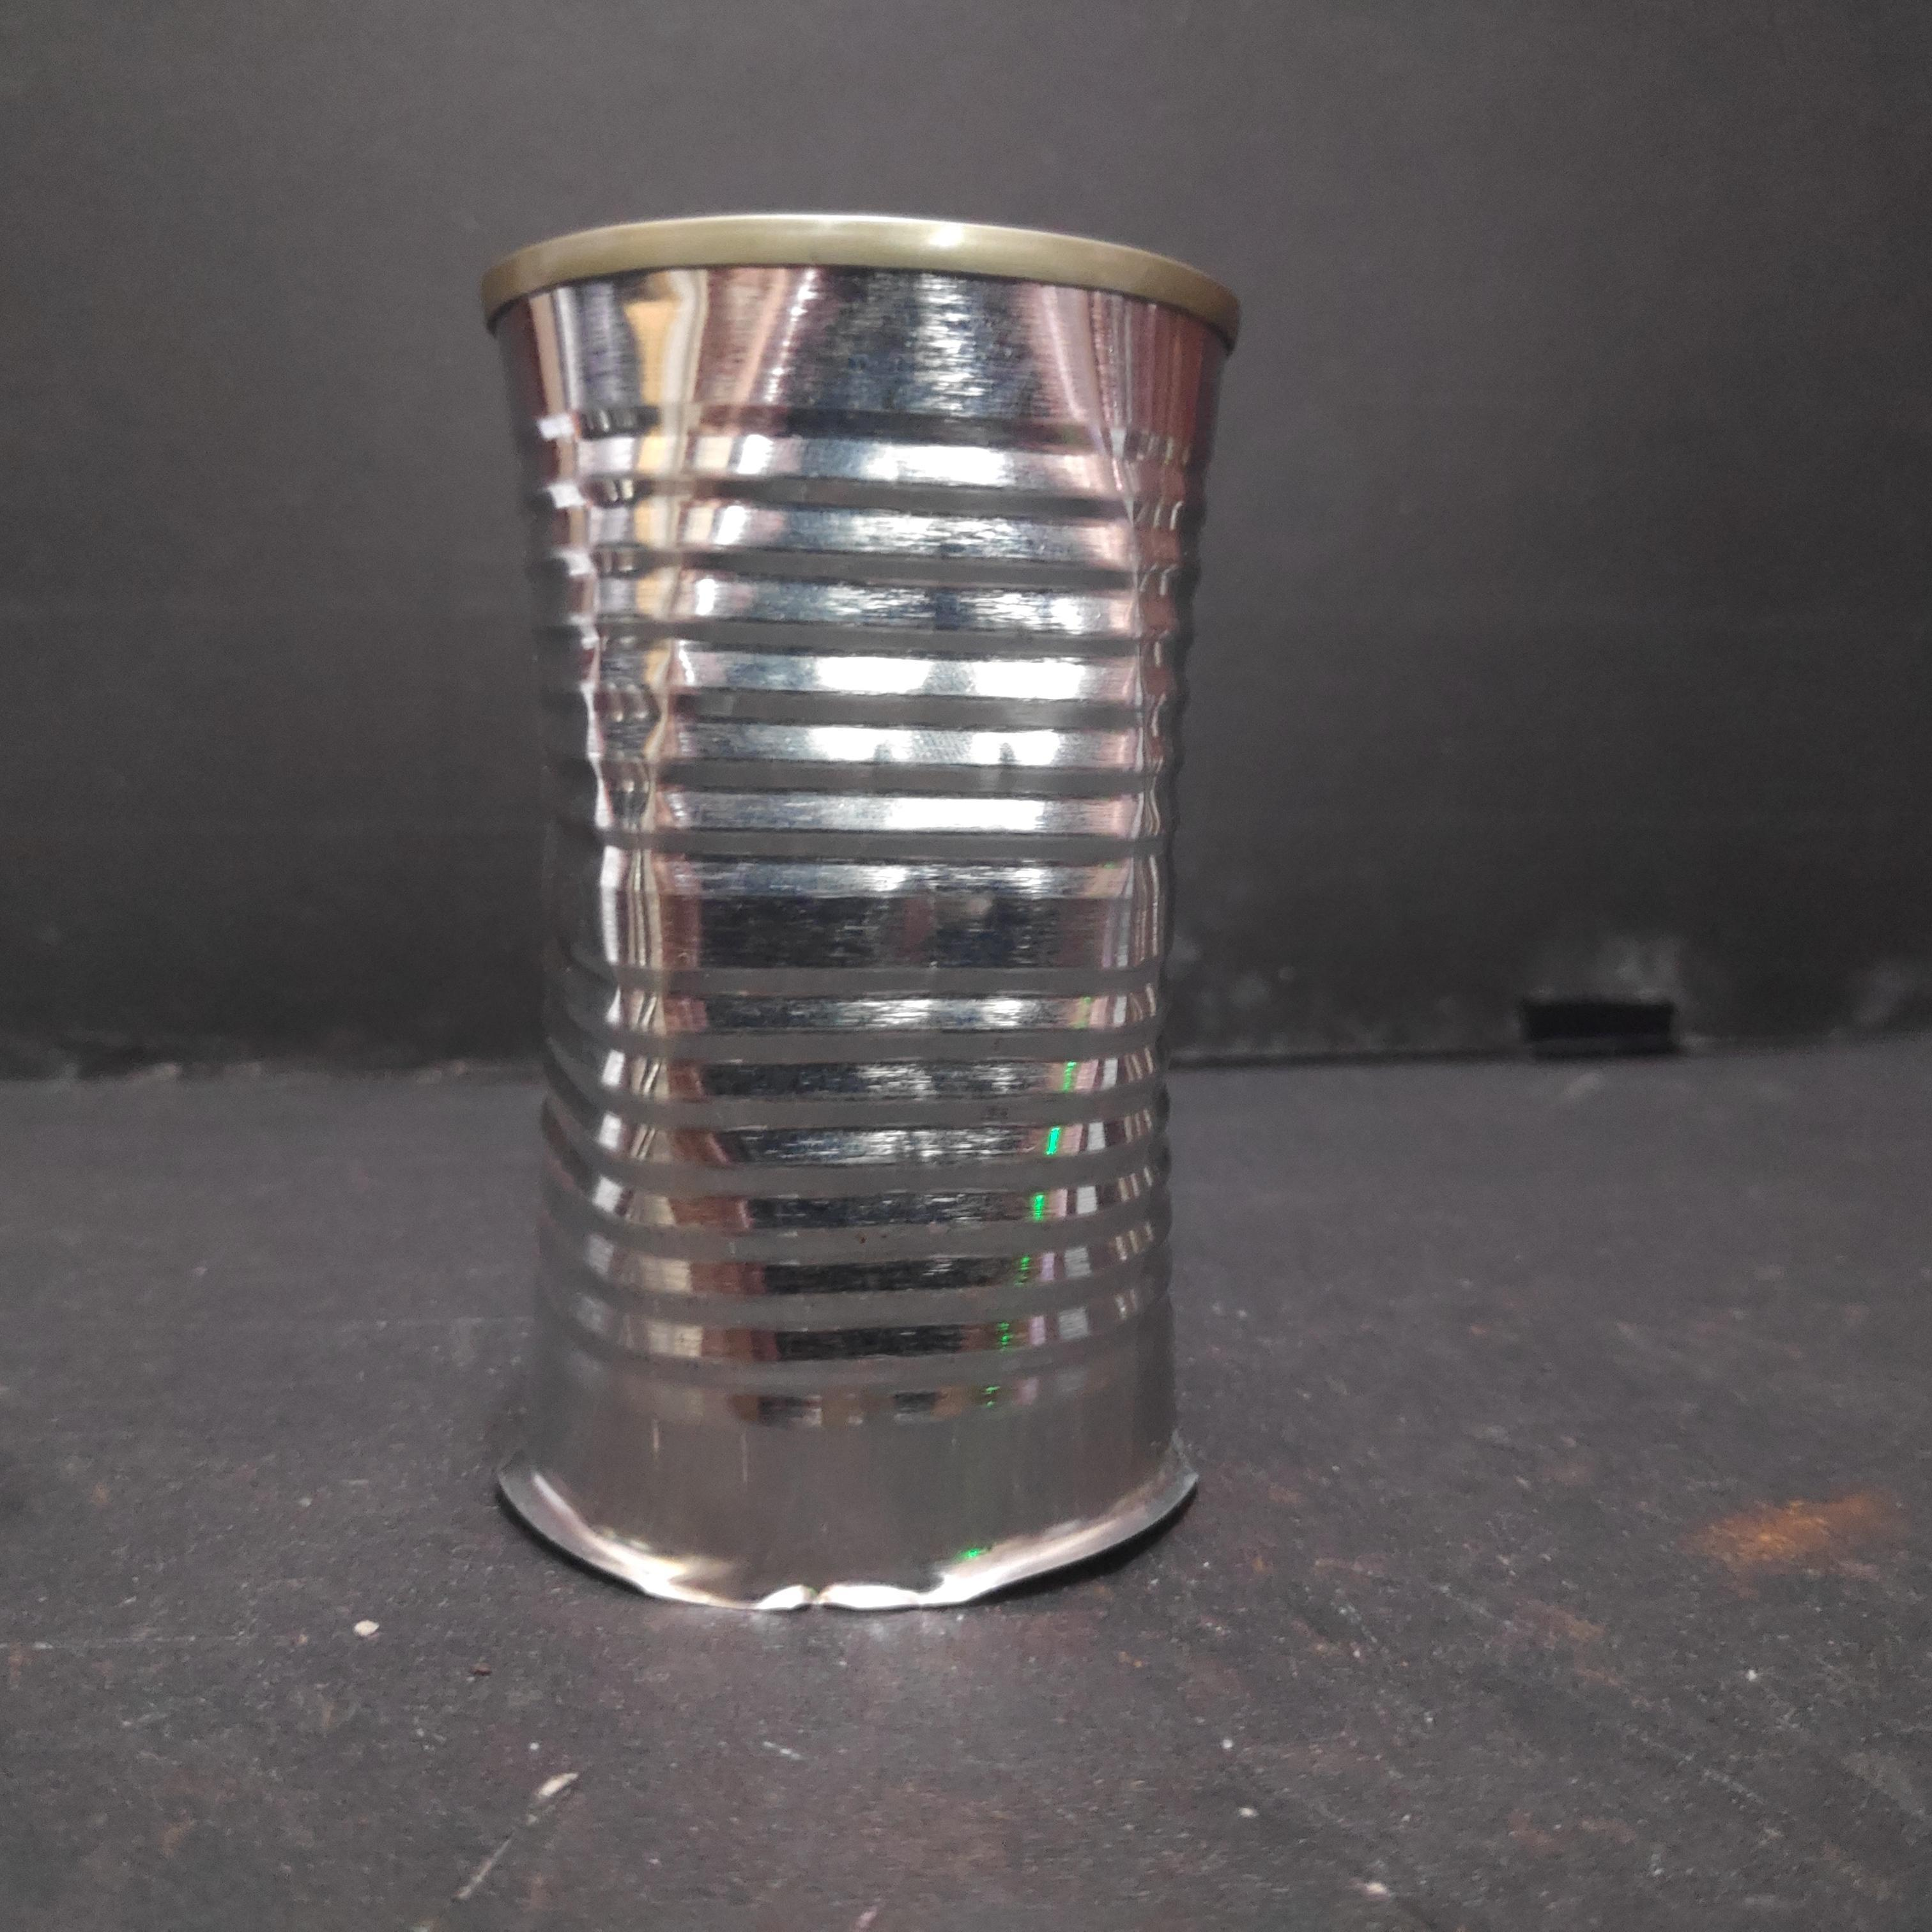Dented: (441, 198, 1256, 1622)
